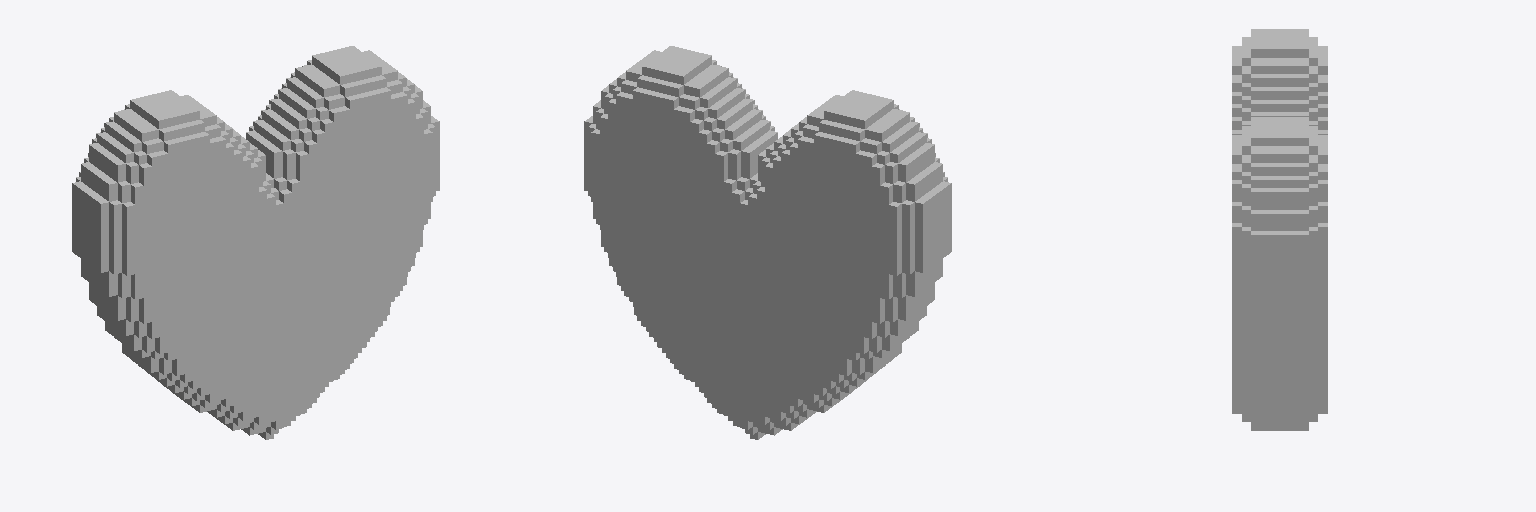
Rendered from heartitem.obj.
3 views of the same model, side by side, from view 1: azimuth 30°, elevation 25°; view 2: azimuth 150°, elevation 25°; view 3: azimuth 270°, elevation 25° (orthographic).
Size of the model in its own units: 41 by 40 by 10.